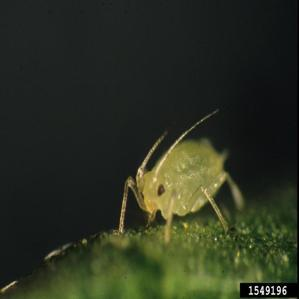Green peach aphid: (104, 97, 262, 256)
